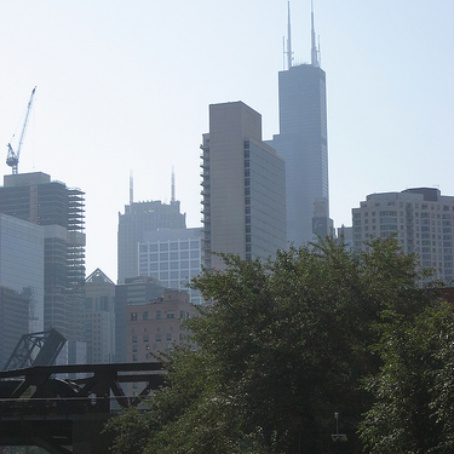building: (196, 101, 286, 301), (1, 168, 86, 368), (272, 49, 335, 247), (349, 188, 454, 299), (117, 192, 203, 304), (94, 276, 199, 362)
sky: (1, 1, 447, 187)
tree: (191, 251, 454, 454)
